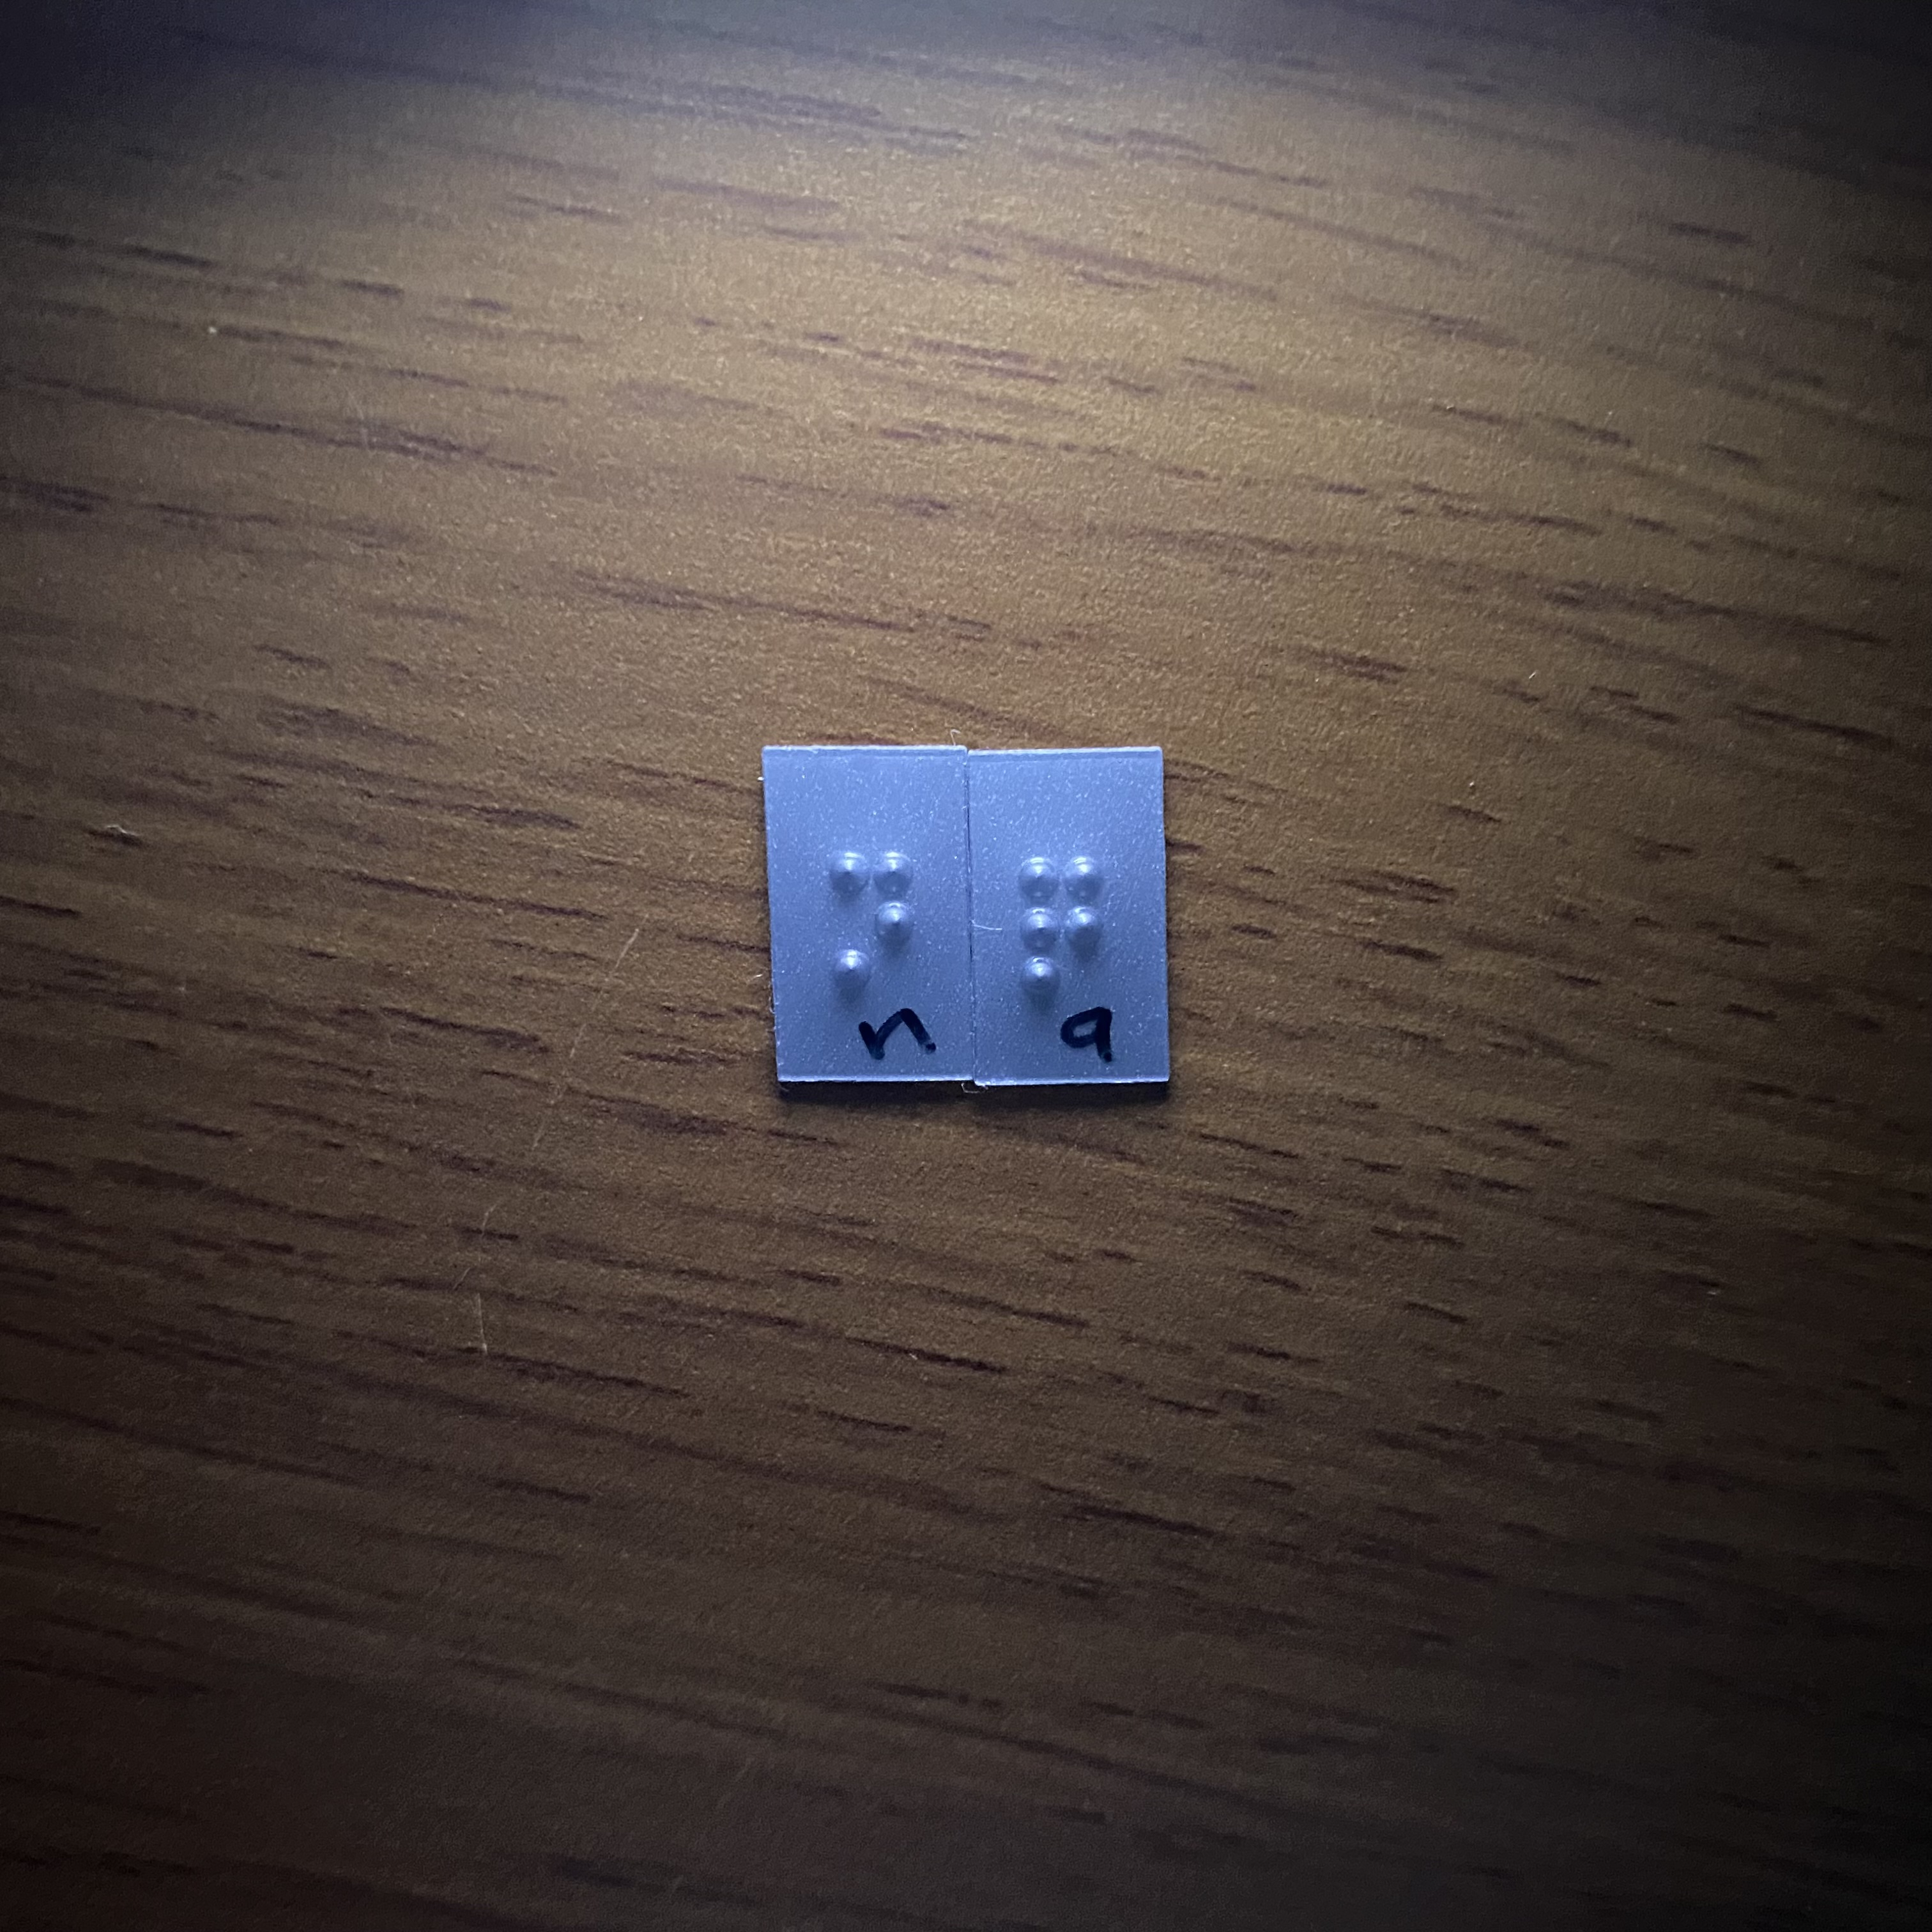n: (807, 828, 926, 1009)
q: (1008, 843, 1122, 1013)
